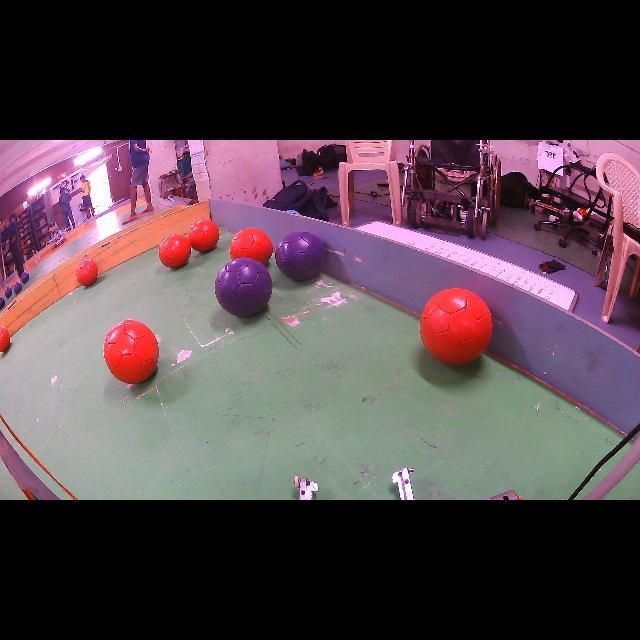P: (214, 258, 272, 318), (275, 231, 325, 281), (20, 271, 29, 284), (5, 285, 12, 299), (14, 281, 21, 294)
R: (420, 289, 492, 364), (104, 320, 159, 384), (230, 228, 272, 265), (159, 234, 191, 268), (188, 219, 220, 251), (76, 259, 99, 286), (0, 326, 10, 352)
